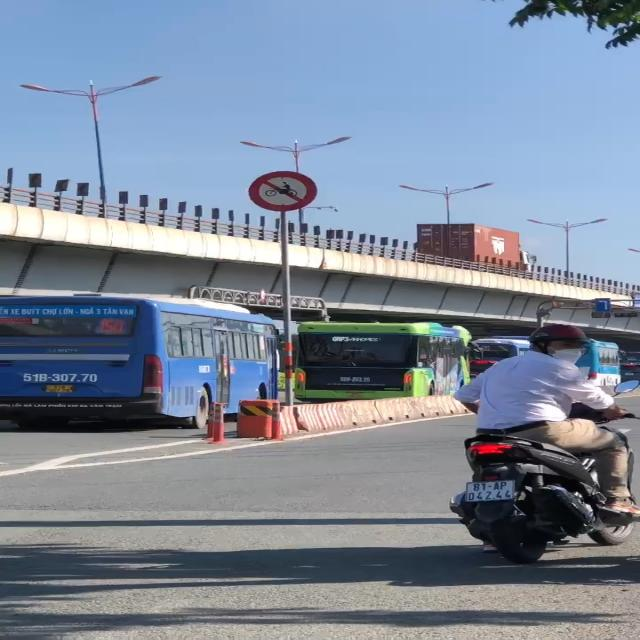Bien bao cam xe may: (245, 165, 319, 216)
